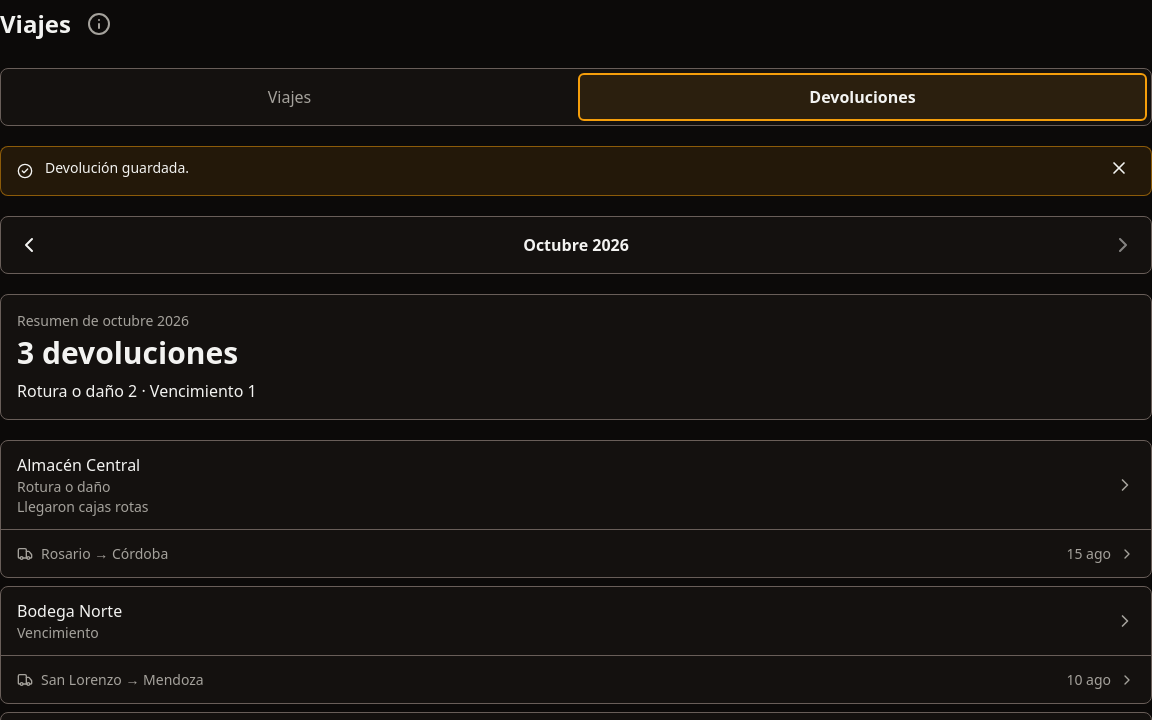
Test: pestaña Devoluciones: aviso al volver de guardar o eliminar › cambiar de pestaña descarta el aviso (la navegación no arrastra el state)
Click the link "Viajes": coordinates (289, 97) [268,86,311,108]
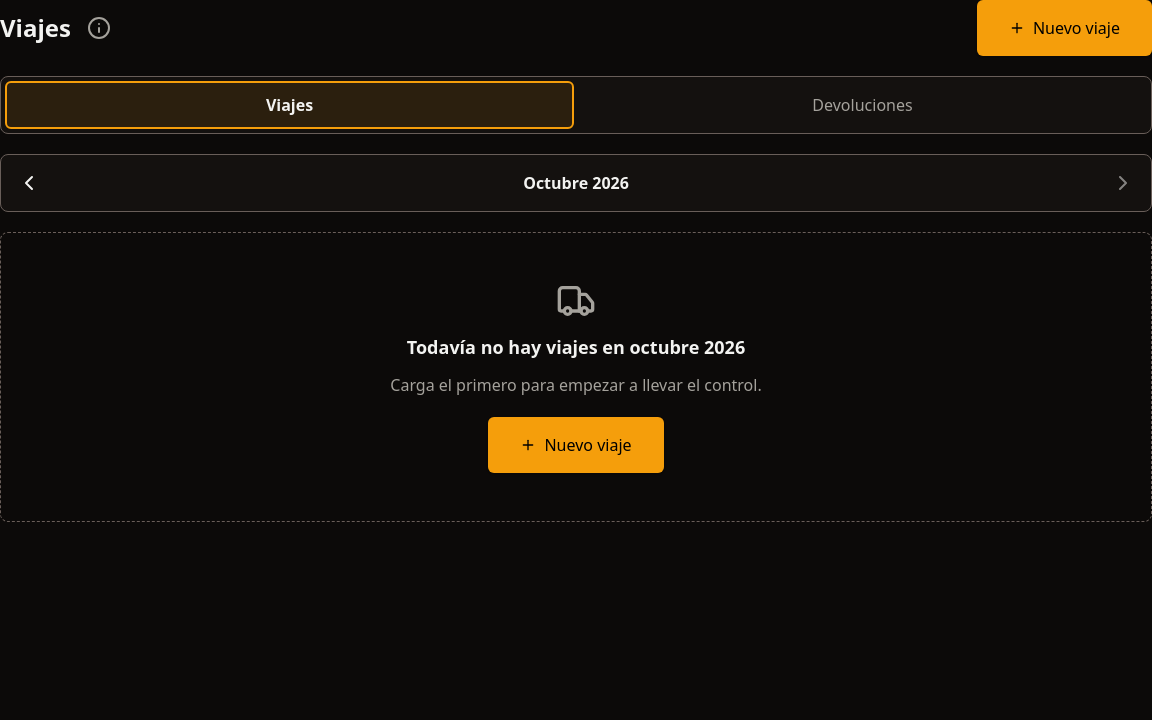
Now the text "Devolución guardada." is gone
